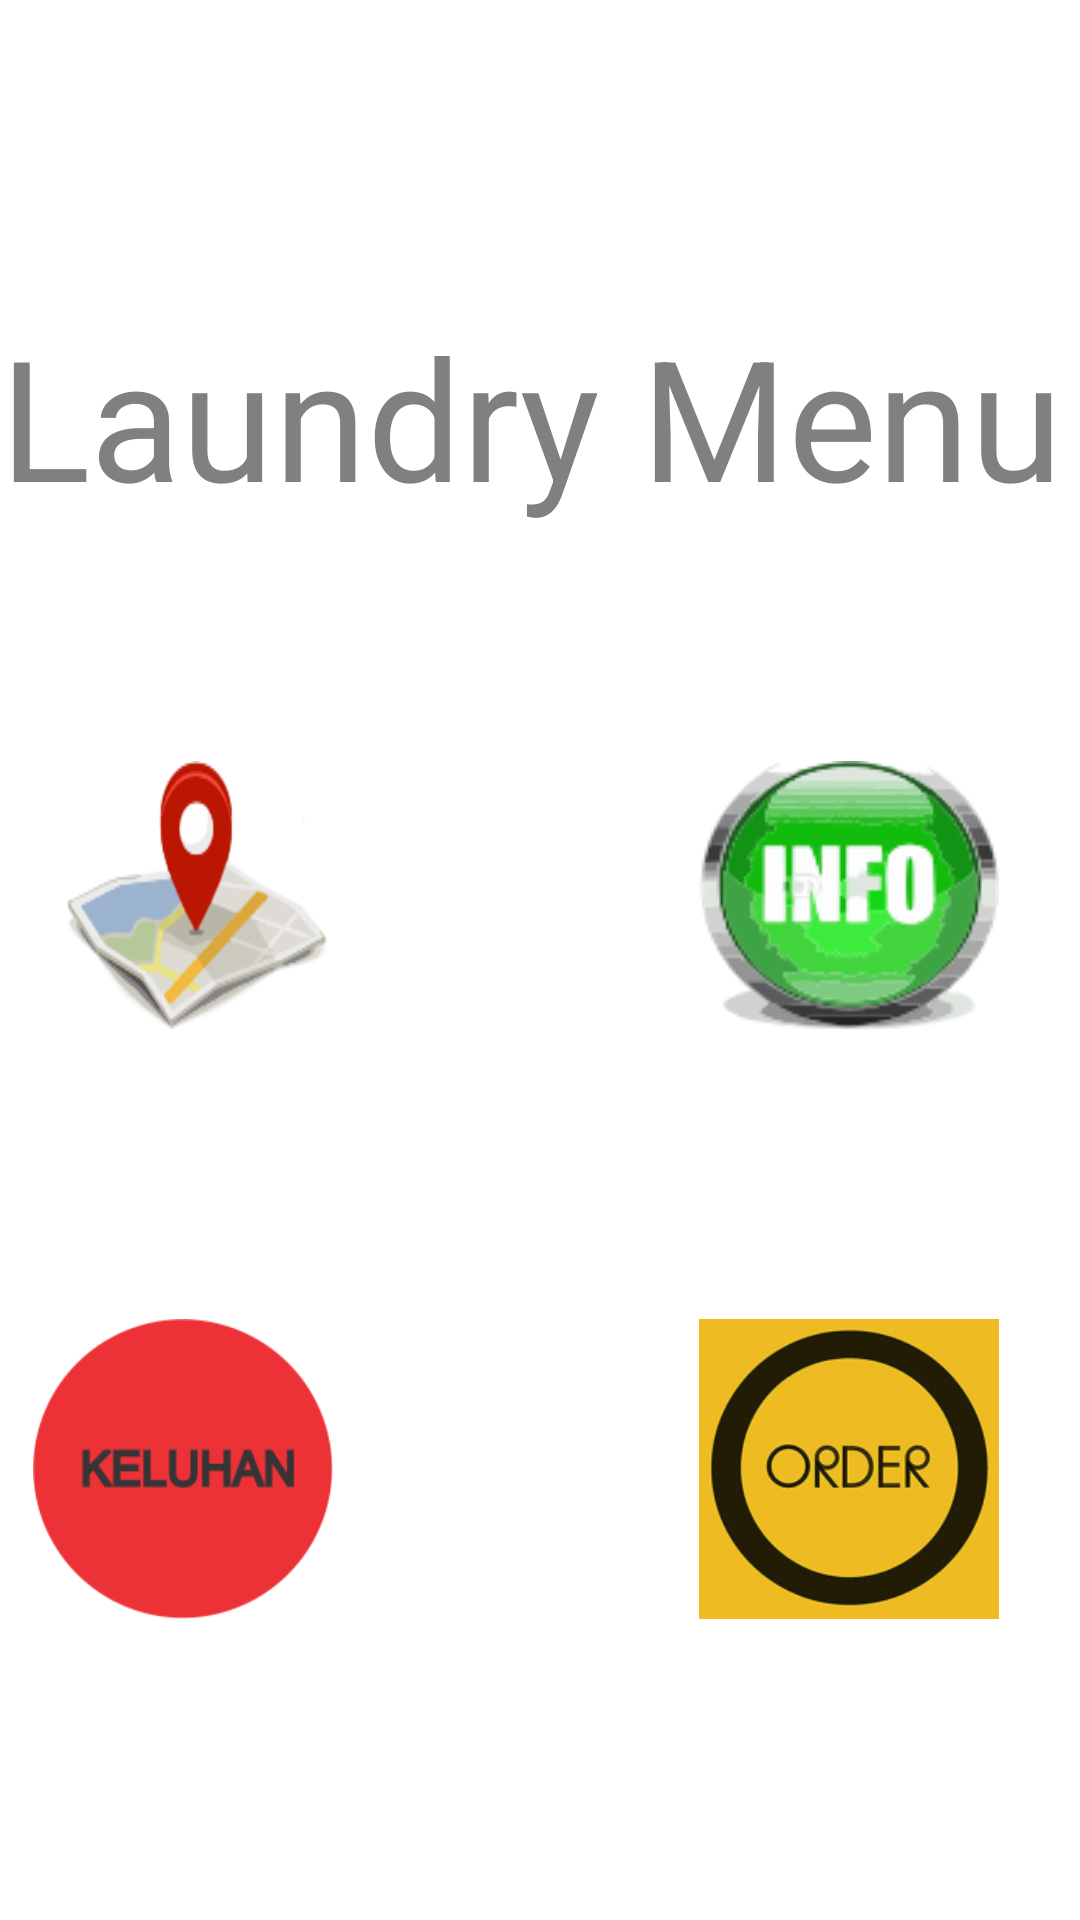

Where icons sit on this 1080w x 1920h app screen, as (x1, y1, x2, y2):
maps: (68, 761, 326, 1029)
